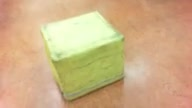cube: (40, 10, 125, 101)
